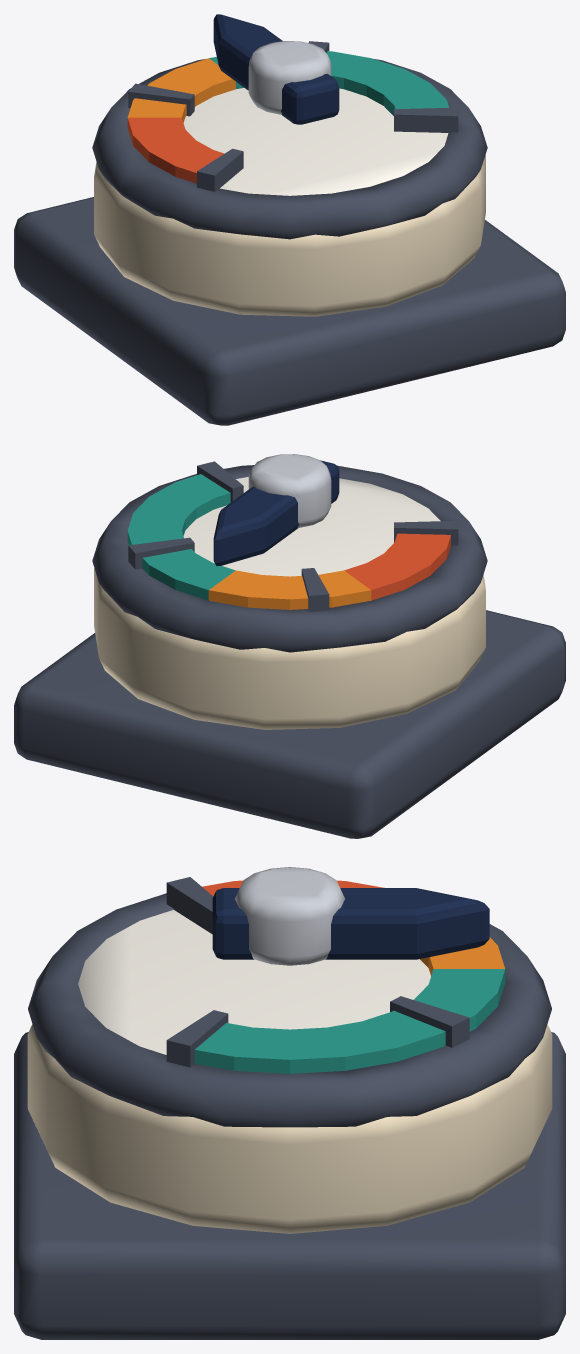
File: Ctrl_Gauge.fbx
3 views of the same model, one above another, from view 1: azimuth 30°, elevation 25°; view 2: azimuth 150°, elevation 25°; view 3: azimuth 270°, elevation 25° (orthographic). The views are drawn at different scales.
Parts seen in each view (by area): view 1: Ctrl_Gauge.Base, Ctrl_Gauge.Housing, Ctrl_Gauge.Dial, Ctrl_Gauge.Move_Needle; view 2: Ctrl_Gauge.Base, Ctrl_Gauge.Housing, Ctrl_Gauge.Dial, Ctrl_Gauge.Move_Needle; view 3: Ctrl_Gauge.Housing, Ctrl_Gauge.Base, Ctrl_Gauge.Dial, Ctrl_Gauge.Move_Needle.
Part boxes in pixels (x1,y1,x2,y2): Ctrl_Gauge.Base: (14,197,565,425); Ctrl_Gauge.Housing: (92,59,487,316); Ctrl_Gauge.Dial: (127,41,458,195); Ctrl_Gauge.Move_Needle: (213,14,339,124); Ctrl_Gauge.Base: (14,610,565,838); Ctrl_Gauge.Housing: (92,465,487,729); Ctrl_Gauge.Dial: (127,461,458,611); Ctrl_Gauge.Move_Needle: (213,454,339,565); Ctrl_Gauge.Housing: (27,893,552,1233); Ctrl_Gauge.Base: (14,1032,565,1339); Ctrl_Gauge.Dial: (78,877,505,1073); Ctrl_Gauge.Move_Needle: (212,867,489,965).
Bounding box in the file's own units: 0.2 × 0.14 × 0.2.
1 material, 1 textured.
